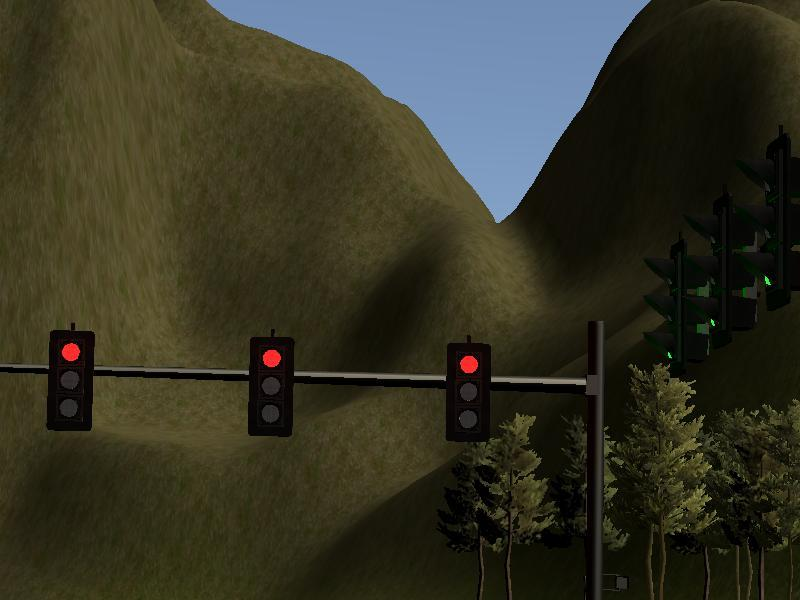Red: (445, 341, 491, 441), (245, 337, 291, 437), (47, 331, 93, 431)
